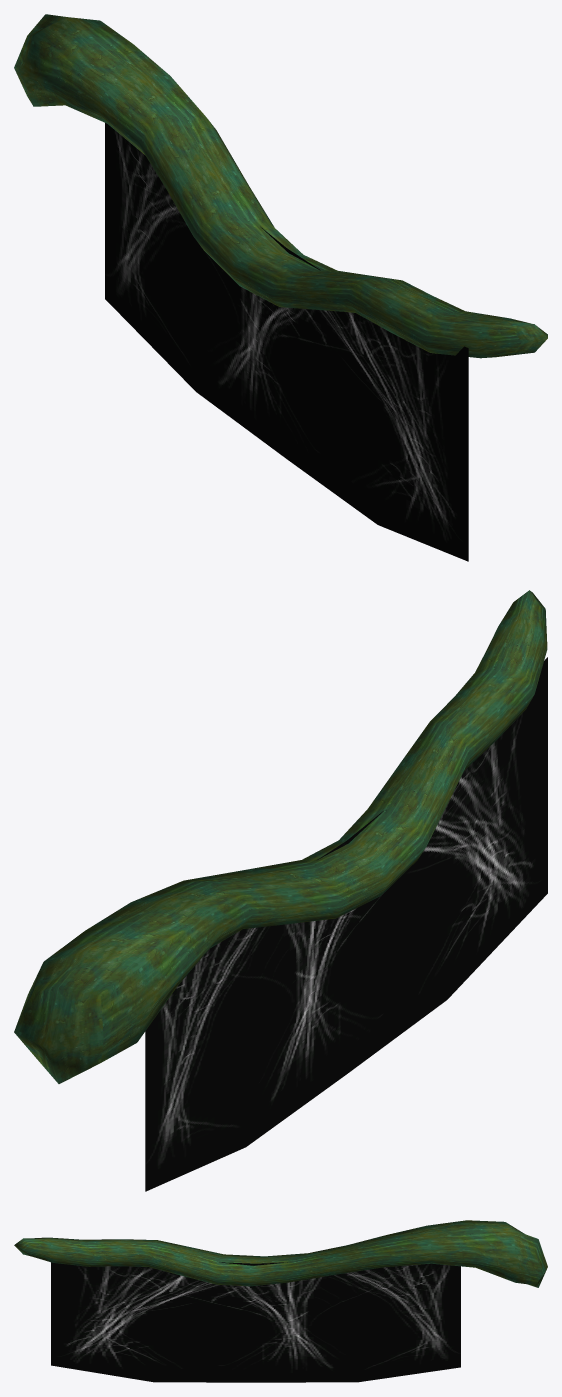
Rendered from INST_MIRK_BRANCH_WEB.obj.
3 renders of one model, top to bottom at view 1: azimuth 30°, elevation 25°; view 2: azimuth 150°, elevation 25°; view 3: azimuth 270°, elevation 25°, orthographic. The views are drawn at different scales.
Visible parts, largest first — view 1: Plane01, PlaySurface1002; view 2: Plane01, PlaySurface1002; view 3: Plane01, PlaySurface1002.
Part boxes in pixels (x1,y1,x2,y2): Plane01: [105, 123, 468, 561]; PlaySurface1002: [14, 14, 547, 358]; Plane01: [145, 657, 547, 1191]; PlaySurface1002: [14, 590, 547, 1083]; Plane01: [51, 1262, 460, 1382]; PlaySurface1002: [14, 1220, 547, 1287].
Bounding box in the file's own units: 151 × 385 × 1197.
